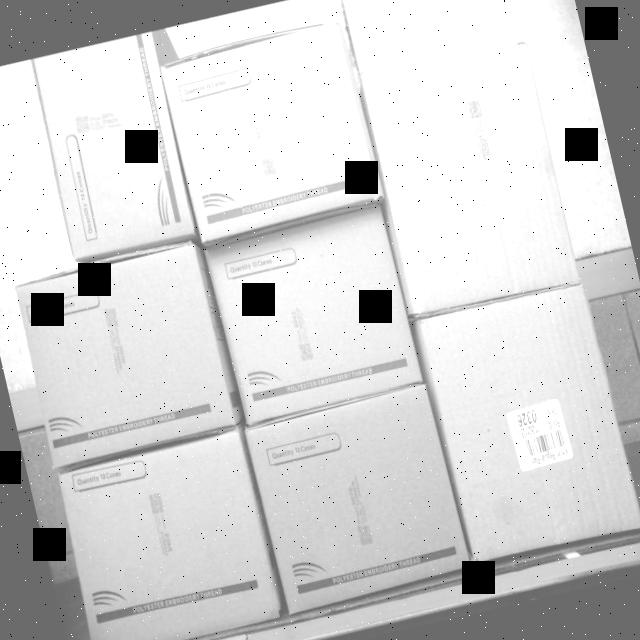box: (417, 282, 640, 567), (358, 38, 580, 316), (246, 384, 470, 612), (16, 243, 238, 463), (56, 429, 285, 640), (158, 17, 380, 233), (205, 204, 421, 416), (28, 31, 198, 266), (27, 31, 196, 262)
